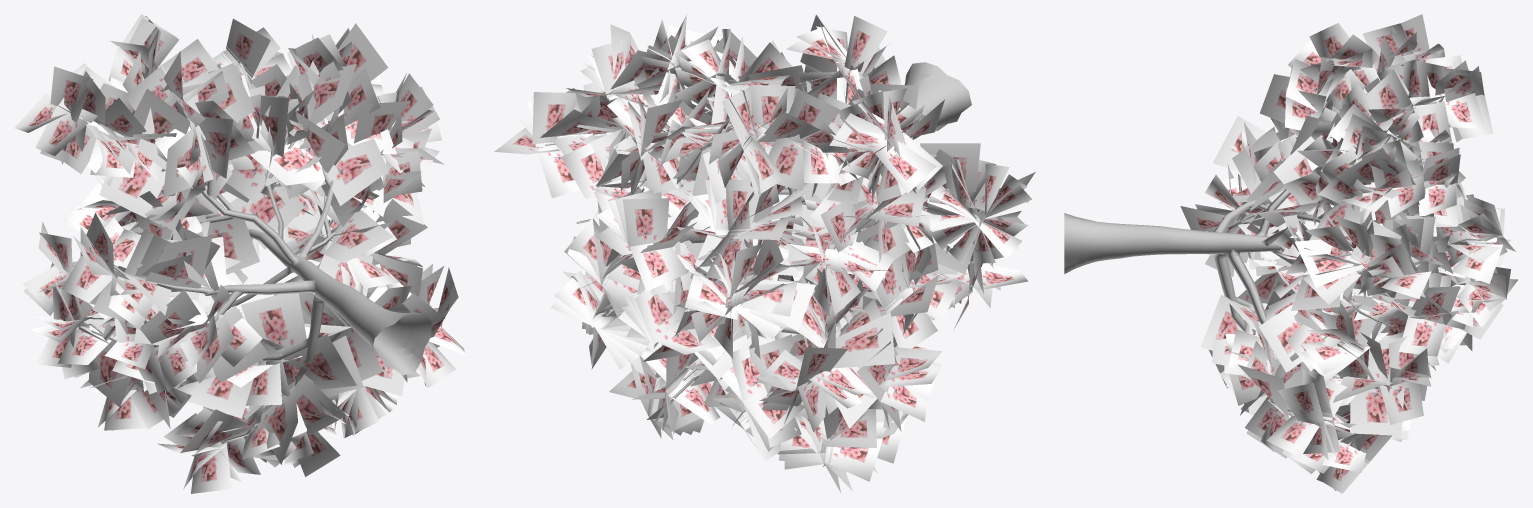
The model's file is Sakura.fbx.
3 views of the same model, side by side, from view 1: azimuth 30°, elevation 25°; view 2: azimuth 150°, elevation 25°; view 3: azimuth 270°, elevation 25° (orthographic). The views are drawn at different scales.
Parts seen in each view (by area): view 1: Sakura; view 2: Sakura; view 3: Sakura.
Boxes of the visible parts, x1,y1,x2,y2 form: Sakura: (14, 14, 465, 493); Sakura: (494, 14, 1035, 493); Sakura: (1064, 14, 1517, 493).
Size of the model in its own units: 0.4036 by 0.4172 by 0.4016.
